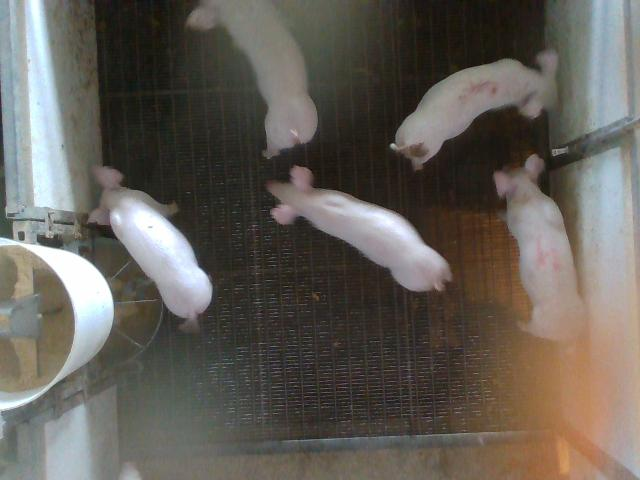pig-4: (494, 155, 585, 342)
pig-5: (390, 50, 556, 169)
